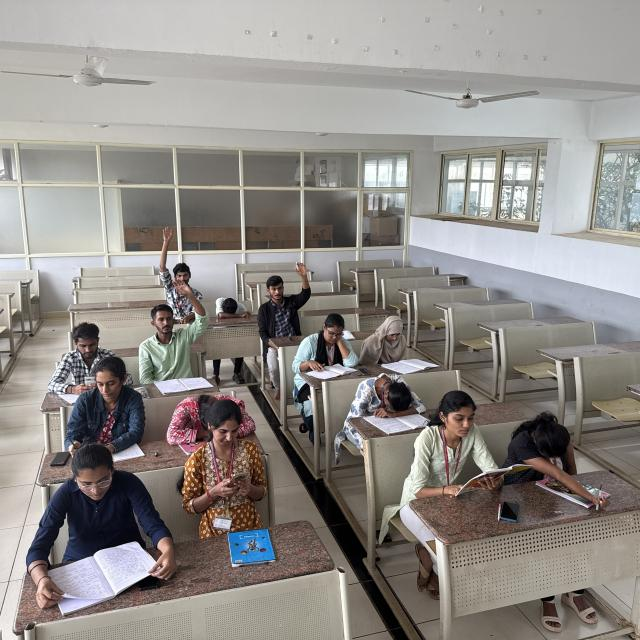Hand Rising: (140, 272, 211, 380), (149, 219, 202, 315), (256, 256, 316, 335)
Reading: (21, 448, 162, 634), (402, 374, 530, 496), (359, 311, 436, 375)
Sleeping: (501, 397, 597, 487), (170, 388, 265, 449), (338, 366, 431, 420), (207, 283, 255, 324)
Using Phone: (186, 399, 276, 516), (58, 355, 152, 456), (44, 319, 135, 396)
Writing: (297, 312, 362, 381)
